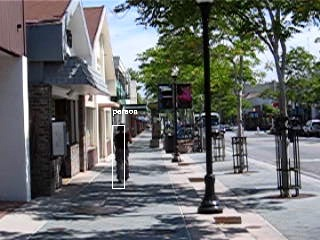person: (113, 123, 132, 184), (112, 123, 131, 184), (114, 123, 133, 184), (113, 122, 132, 183), (113, 124, 132, 185)
target_negative: (205, 24, 306, 123), (268, 67, 312, 215), (221, 17, 256, 173), (79, 63, 144, 141), (199, 229, 302, 237), (194, 136, 205, 209)
